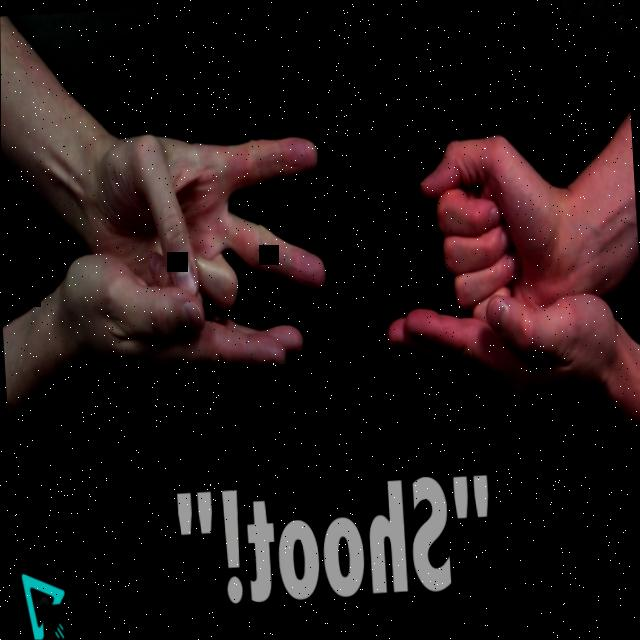Rock: (413, 130, 569, 334)
Scissors: (76, 117, 329, 306)
